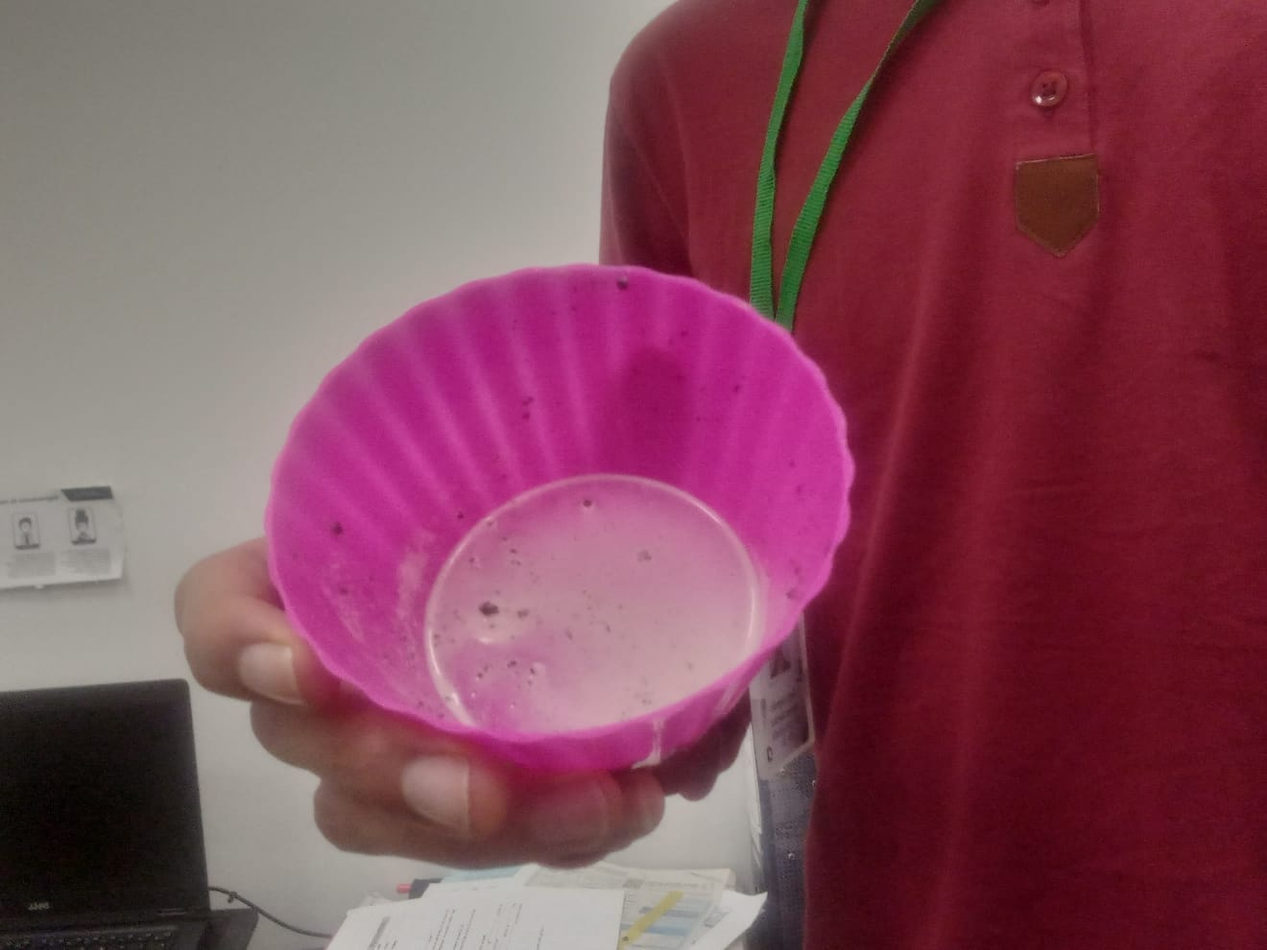Plastico: (264, 264, 856, 787)
